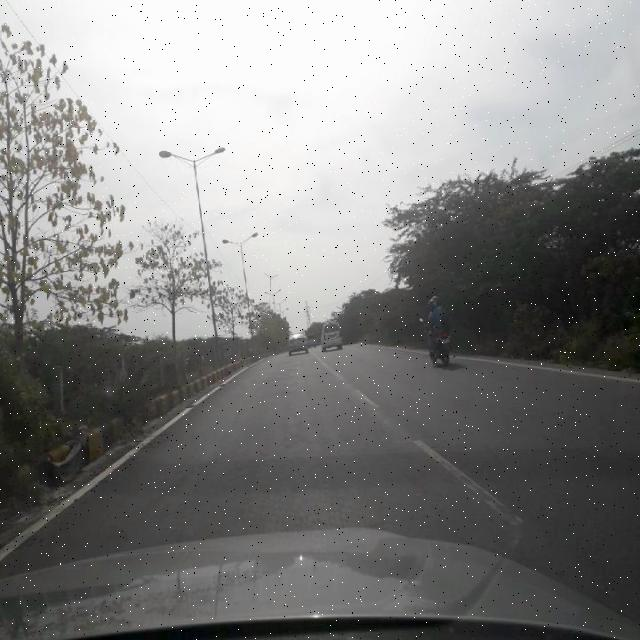D40: (211, 454, 287, 489)
D44: (416, 439, 524, 535)
